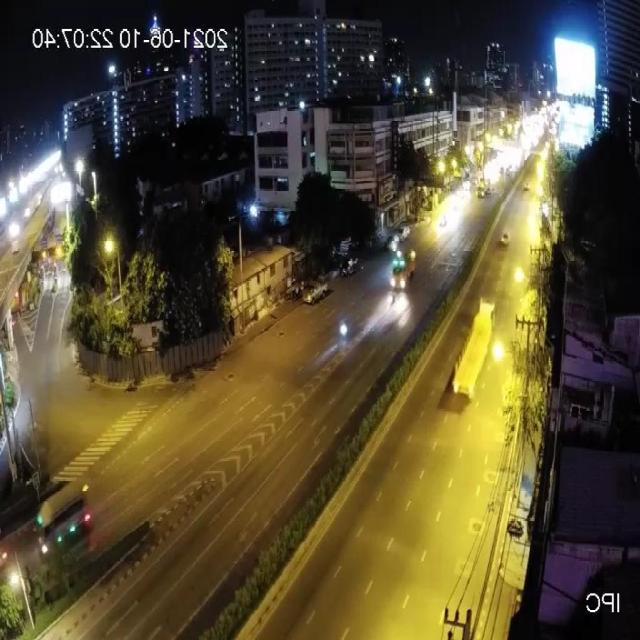Car: (500, 230, 510, 247)
Truck: (452, 294, 496, 402), (388, 244, 417, 292)
